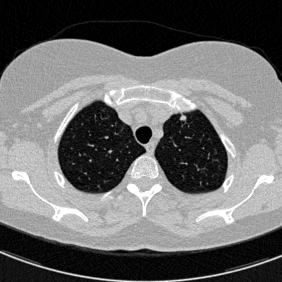nodule: (179, 113, 187, 121)
